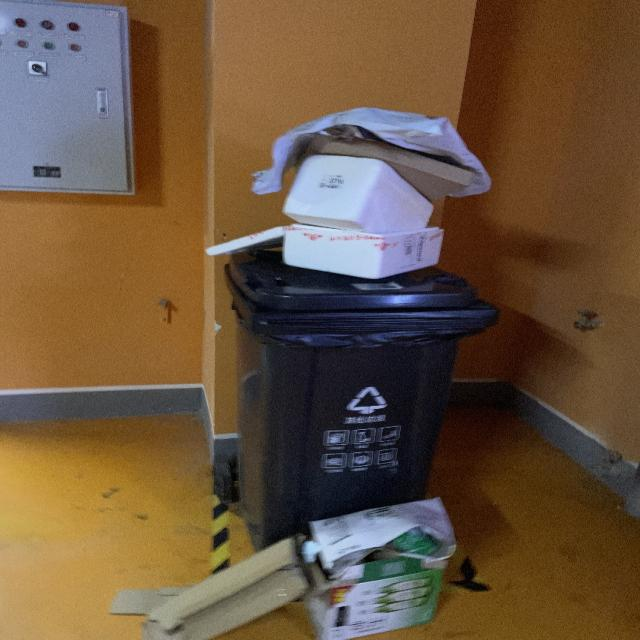garbage: (105, 497, 454, 639)
overflow: (204, 107, 499, 550)
